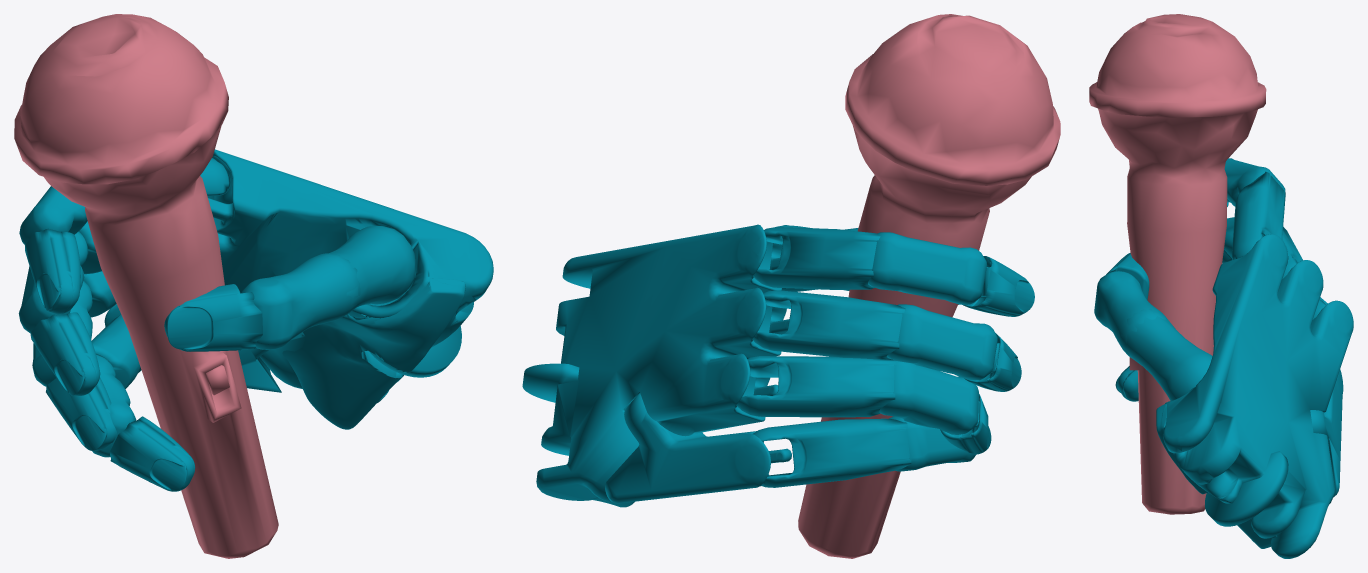
The picture shows the model from 3 angles, left to right: view 1: azimuth 30°, elevation 25°; view 2: azimuth 150°, elevation 25°; view 3: azimuth 270°, elevation 25°; orthographic projection. The views are drawn at different scales.
Parts seen in each view (by area): view 1: world; view 2: world; view 3: world.
Part boxes in pixels (<box>): world: <box>14,14,493,558</box>; world: <box>522,14,1060,558</box>; world: <box>1089,14,1353,558</box>.
Size of the model in its own units: 0.1793 by 0.2 by 0.107.
